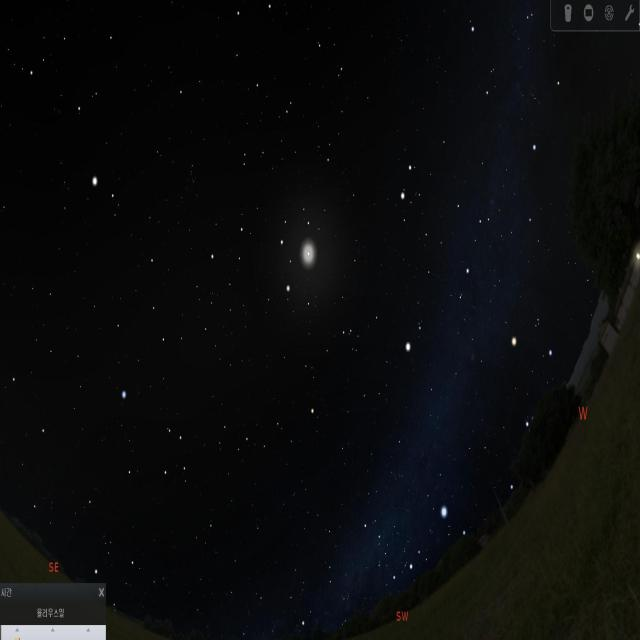bootes: (52, 0, 126, 206)
canis_major: (415, 496, 478, 589)
canis_minor: (396, 322, 428, 368)
gemini: (400, 152, 489, 299)
leo: (201, 198, 317, 307)
moon: (291, 232, 327, 280)
orion: (512, 325, 558, 474)
